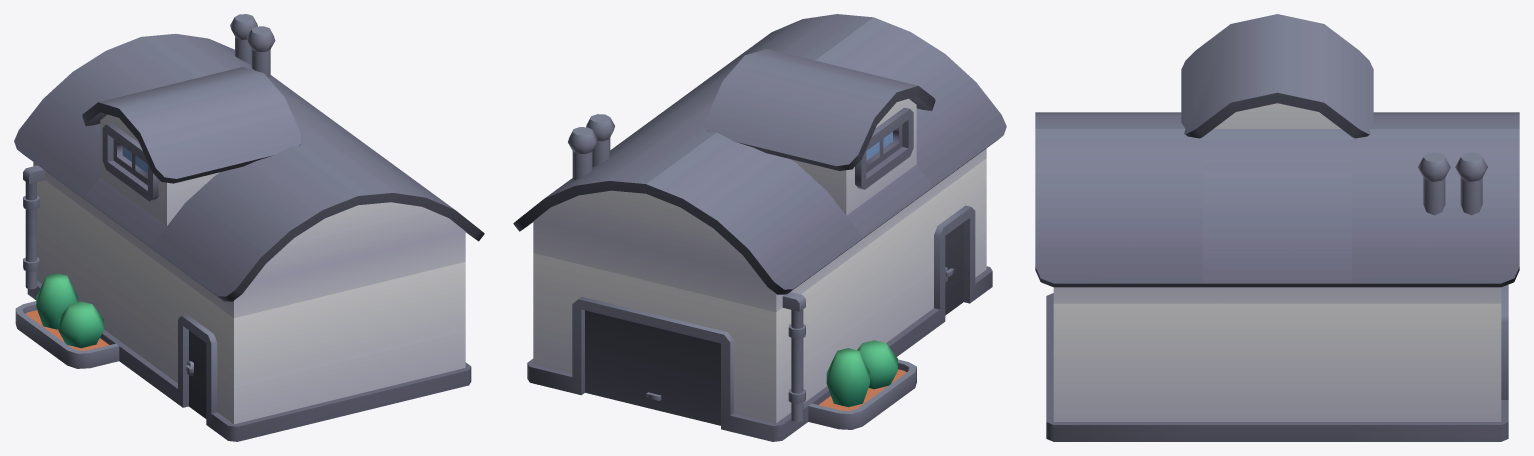
File: building-j.glb
The picture shows the model from 3 angles, left to right: view 1: azimuth 30°, elevation 25°; view 2: azimuth 150°, elevation 25°; view 3: azimuth 270°, elevation 25°; orthographic projection. The views are drawn at different scales.
Visible parts, largest first — view 1: building-j; view 2: building-j; view 3: building-j.
Part boxes in pixels (x1=…): building-j: x1=14, y1=14, x2=484, y2=441; building-j: x1=513, y1=14, x2=1006, y2=441; building-j: x1=1035, y1=14, x2=1519, y2=441.
Bounding box in the file's own units: 1.03 × 0.8612 × 1.3.
1 material, 1 textured.
